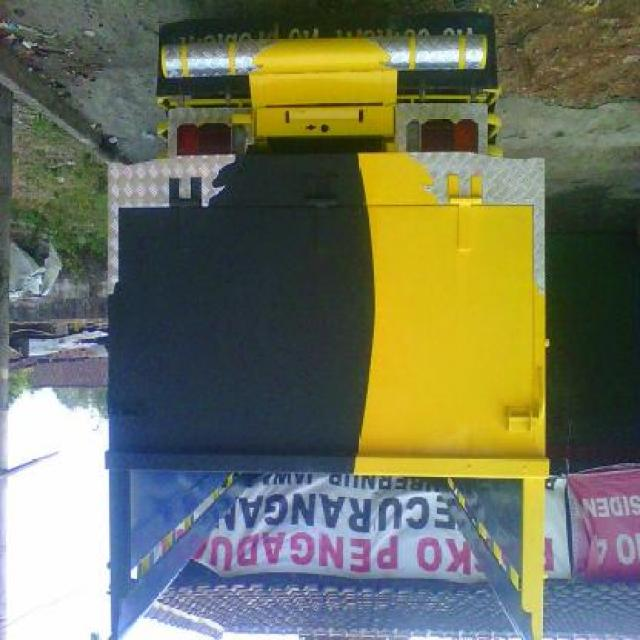truck: (109, 16, 550, 640)
